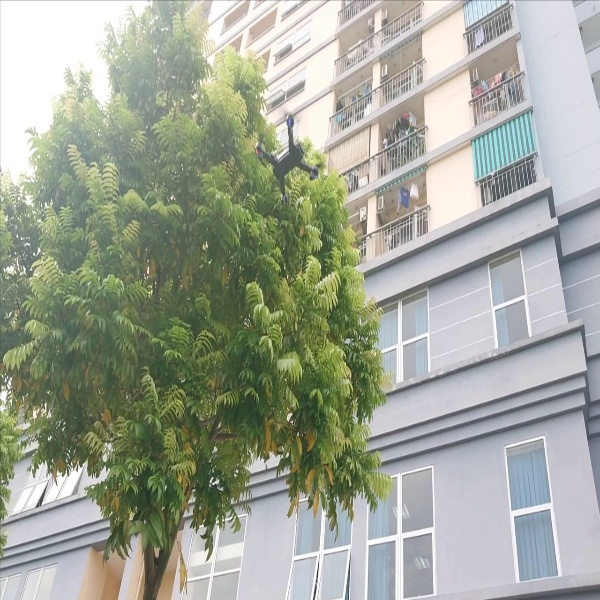drone: (246, 107, 326, 202)
